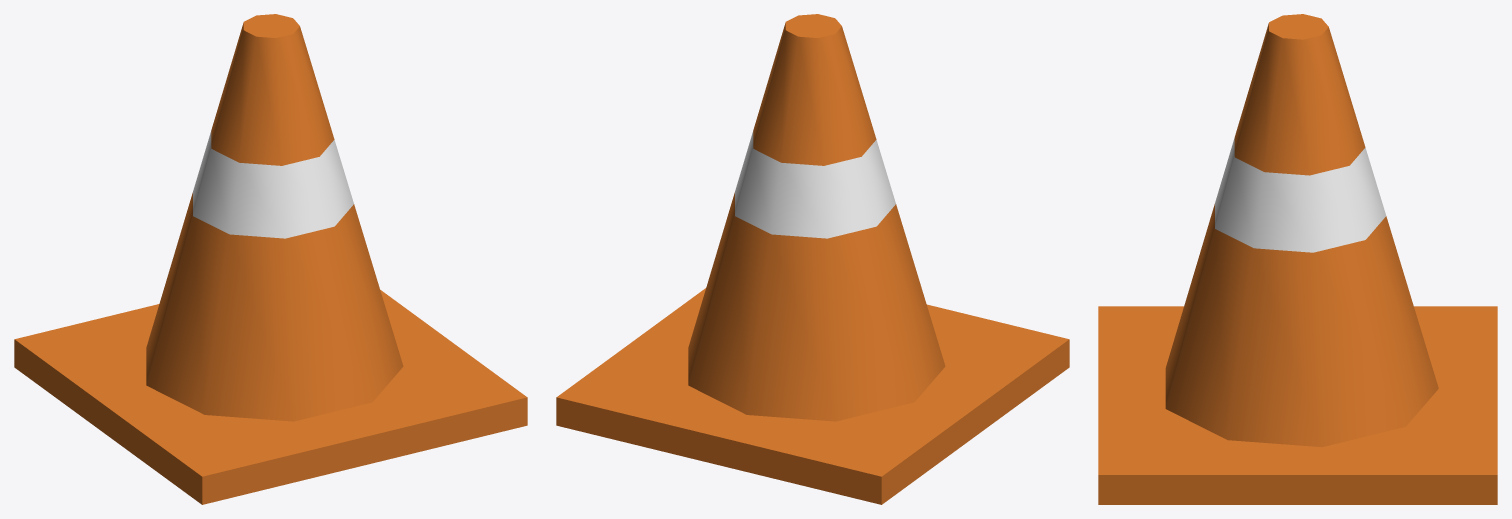
Rendered from traffic-cone.glb.
The picture shows the model from 3 angles, left to right: view 1: azimuth 30°, elevation 25°; view 2: azimuth 150°, elevation 25°; view 3: azimuth 270°, elevation 25°; orthographic projection. The views are drawn at different scales.
Parts seen in each view (by area): view 1: Cube; view 2: Cube; view 3: Cube.
Boxes of the visible parts, x1,y1,x2,y2 form: Cube: (14,14,527,504); Cube: (556,14,1069,504); Cube: (1098,14,1497,504).
Size of the model in its own units: 1.96 by 2.13 by 1.96.
1 material, 1 textured.
